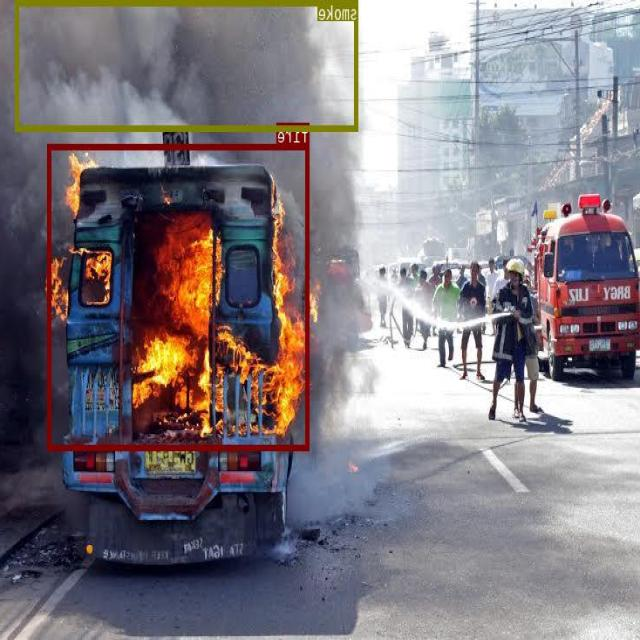fire: (49, 143, 310, 449)
smoke: (16, 0, 359, 131)
